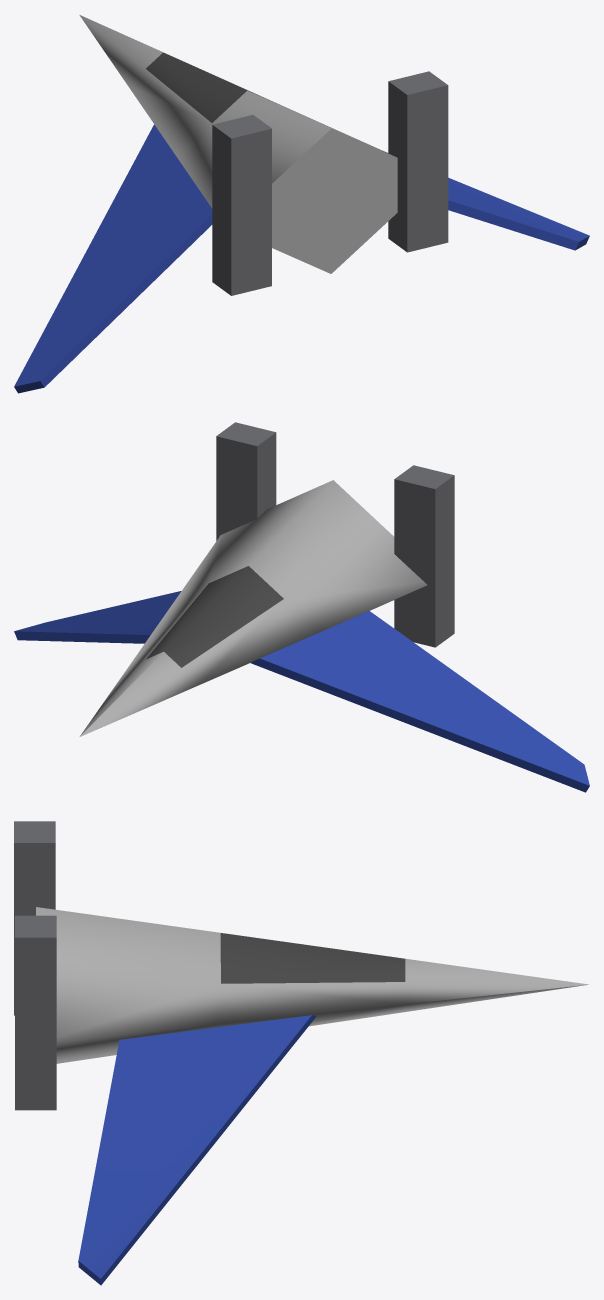
File: spaceShip2.fbx
3 renders of one model, top to bottom at view 1: azimuth 30°, elevation 25°; view 2: azimuth 150°, elevation 25°; view 3: azimuth 270°, elevation 25°, orthographic. The views are drawn at different scales.
Visible parts, largest first — view 1: pasted__polySurface10; view 2: pasted__polySurface10; view 3: pasted__polySurface10.
Part boxes in pixels (x1,y1,x2,y2): pasted__polySurface10: [14, 15, 589, 393]; pasted__polySurface10: [14, 422, 589, 792]; pasted__polySurface10: [14, 821, 588, 1285].
Bounding box in the file's own units: 3.82 × 1.55 × 3.02.
